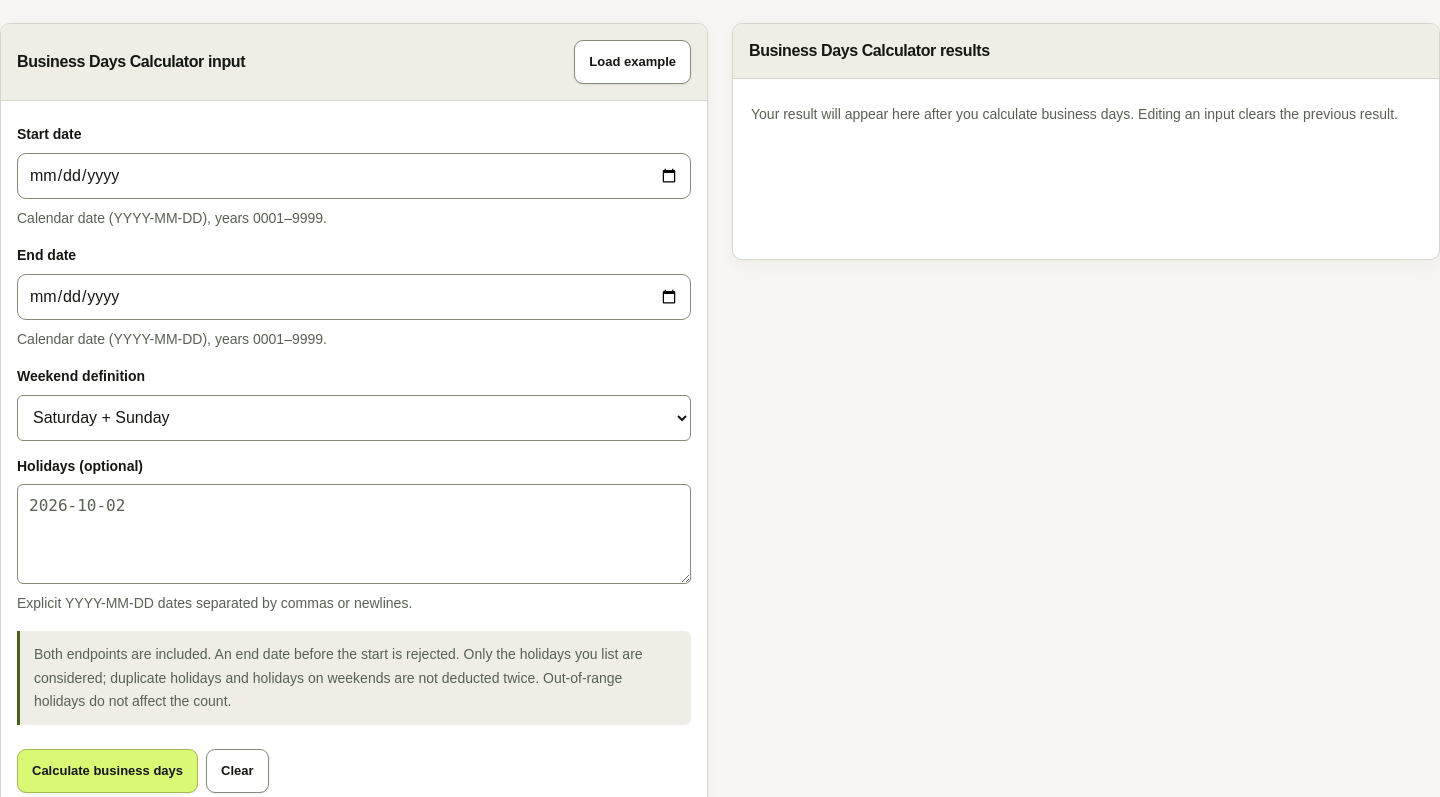
Test: Date & Time SSR hydration IDs › keeps conditional custom-weekend controls usable after hydration
The width and height of the screenshot is (1440, 797).
Click the button "Load example" at (633, 62), box [574, 40, 691, 84]
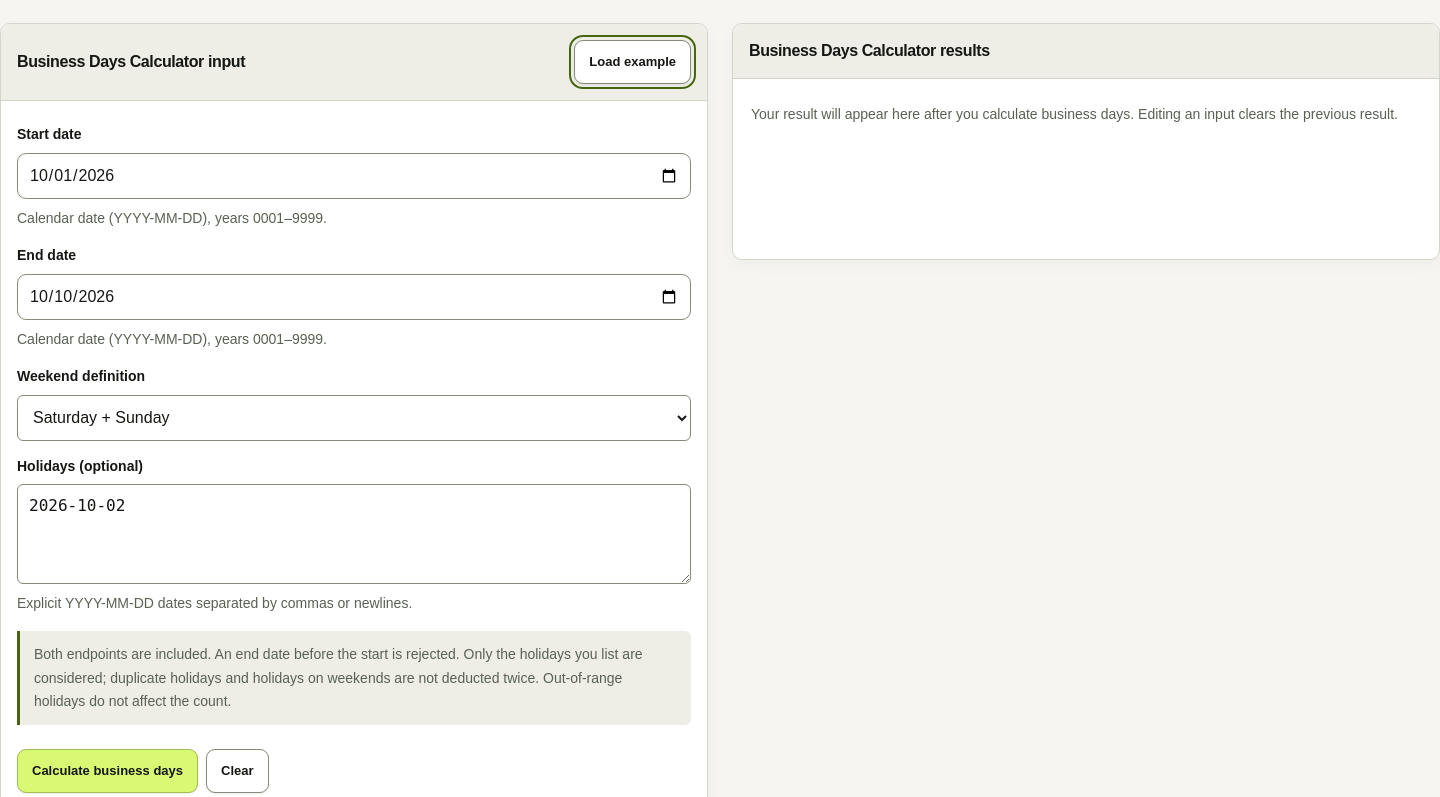
Select "Custom weekend" in the dropdown labelled "Weekend definition" at (354, 418), box [17, 395, 691, 441]
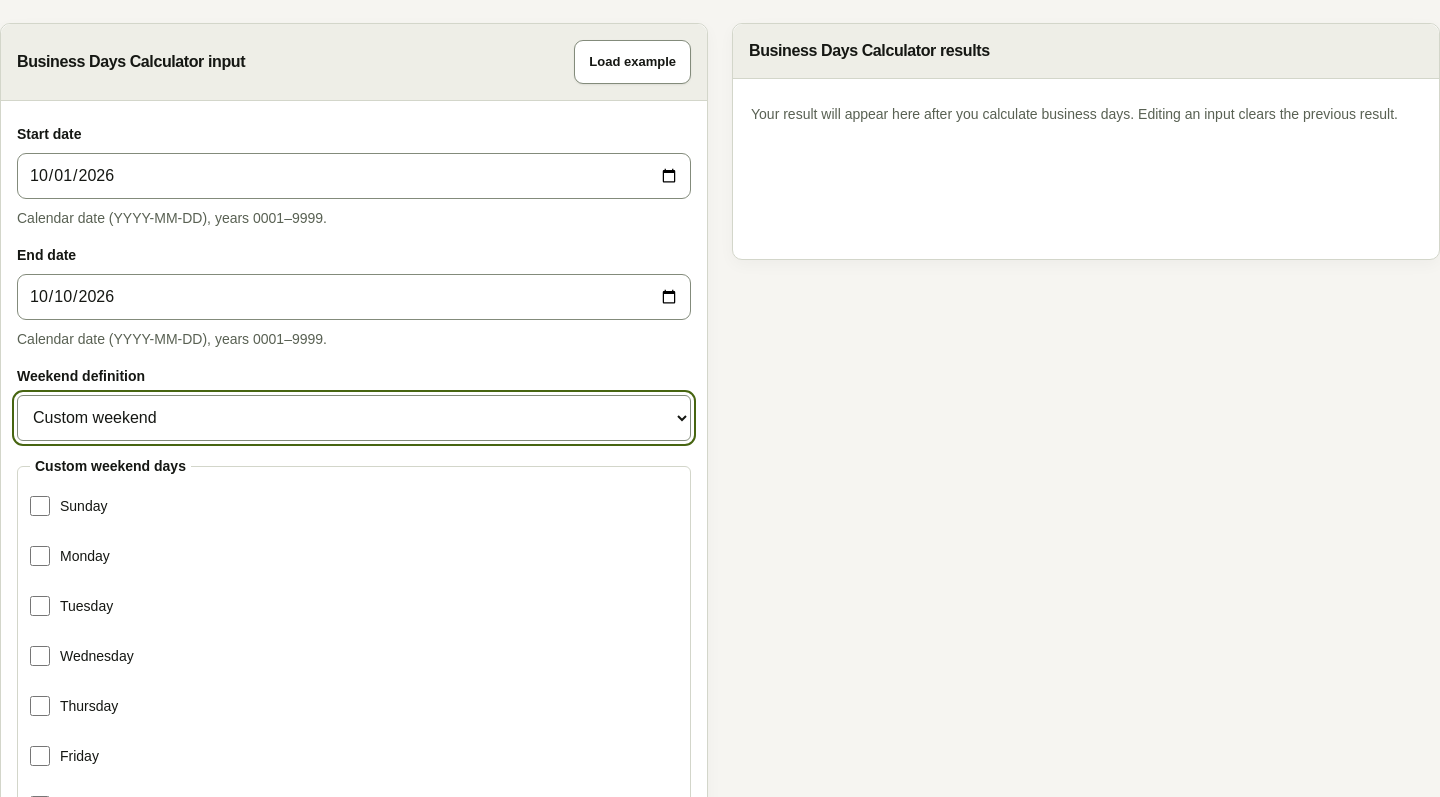
Click the checkbox labelled "Sunday" at (40, 506), box [30, 496, 50, 516]
(page scrolled)
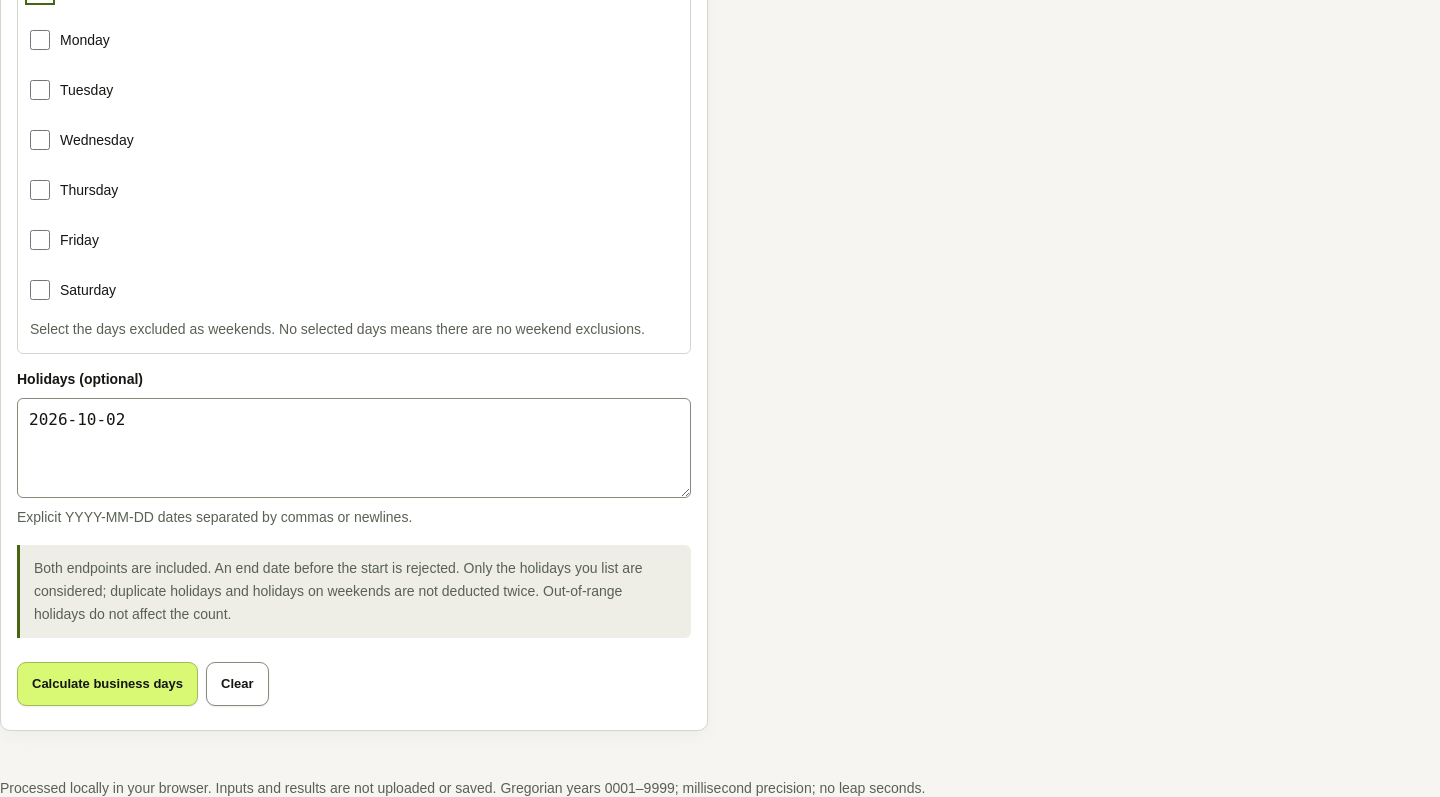
Check: the checkbox labelled "Monday" is shown, box [30, 30, 50, 50]
Check: the checkbox labelled "Tuesday" is shown, box [30, 80, 50, 100]
Check: the checkbox labelled "Wednesday" is shown, box [30, 130, 50, 150]
Click the button "Calculate business days" at (108, 684), box [17, 662, 198, 706]
(page scrolled)
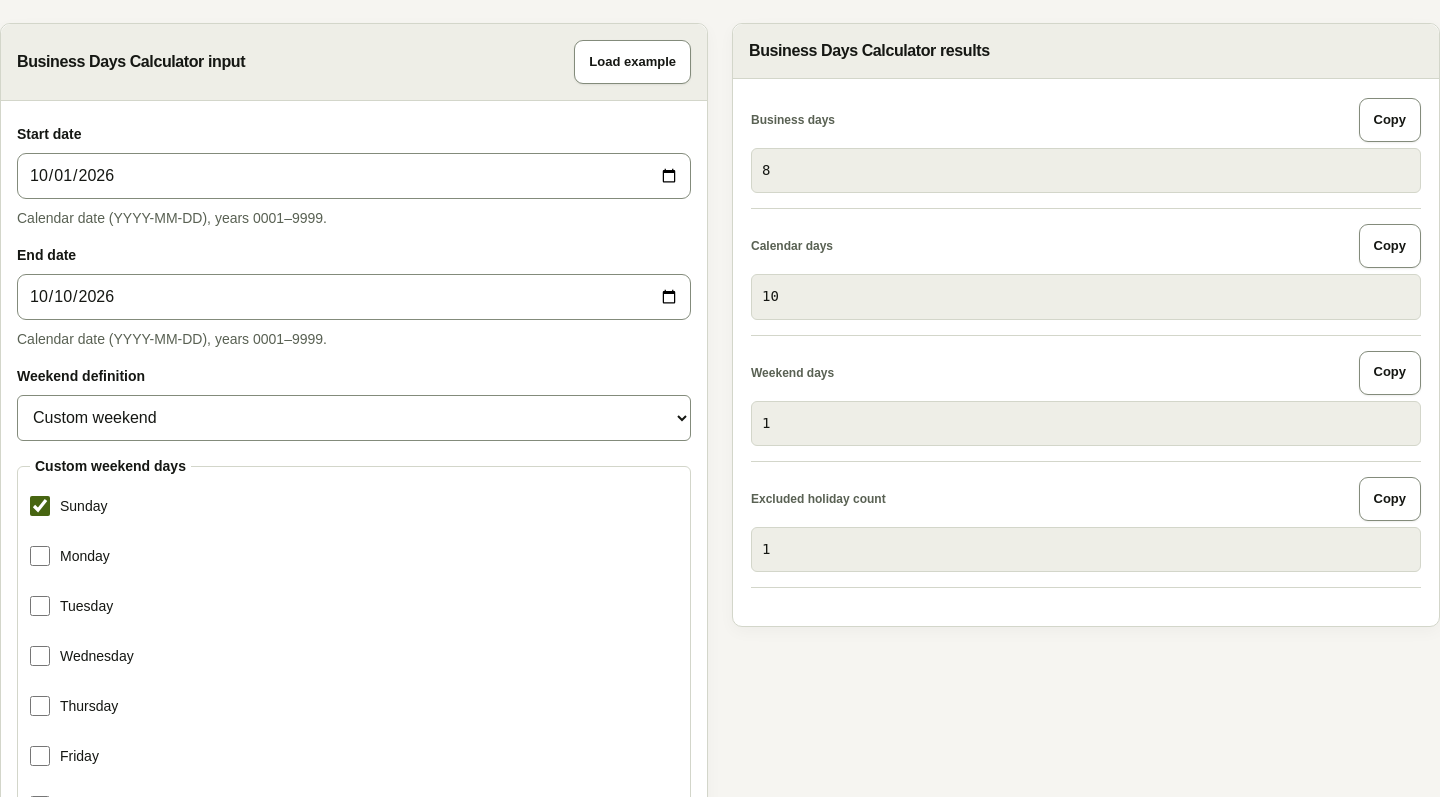
Check: the text named "Business days value" reads "8", box [762, 162, 770, 178]
